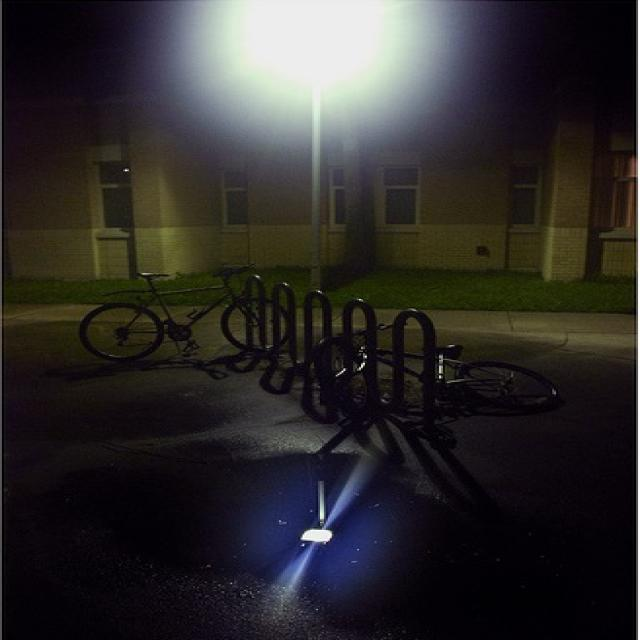Bicycle: (71, 255, 274, 381)
